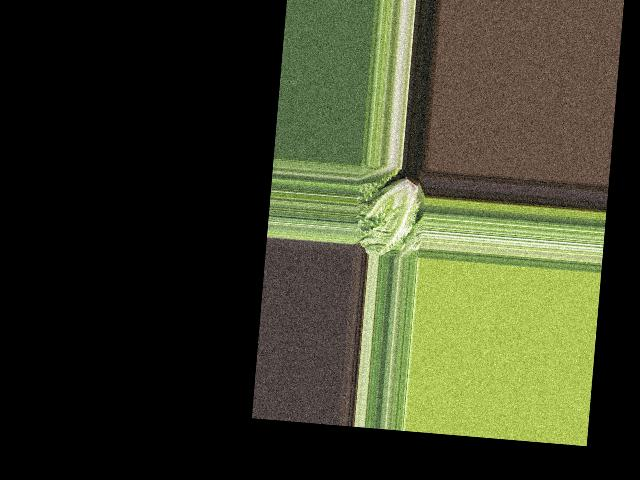lettuce: (357, 169, 427, 258)
